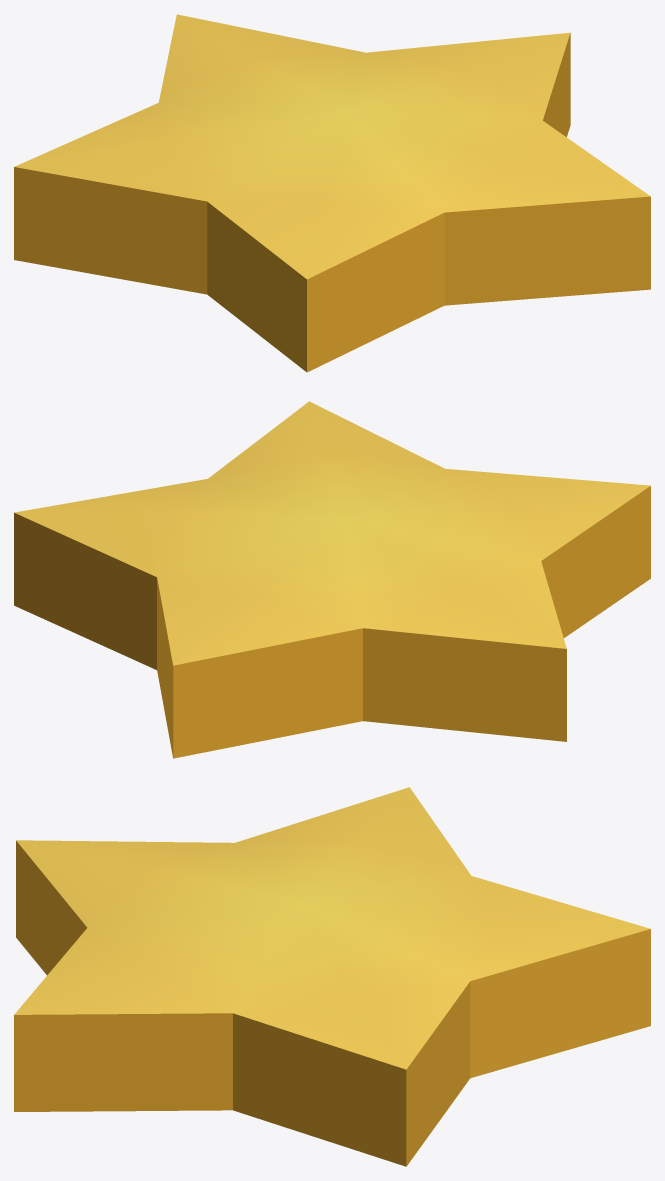
The model's file is Star.fbx.
3 views of the same model, one above another, from view 1: azimuth 30°, elevation 25°; view 2: azimuth 150°, elevation 25°; view 3: azimuth 270°, elevation 25° (orthographic). The views are drawn at different scales.
Parts seen in each view (by area): view 1: star; view 2: star; view 3: star.
Part boxes in pixels (left/top/right/bottom): star: left=14, top=14, right=650, bottom=372; star: left=14, top=401, right=650, bottom=758; star: left=14, top=787, right=650, bottom=1166.
Bounding box in the file's own units: 1.9 × 0.4708 × 1.81.
